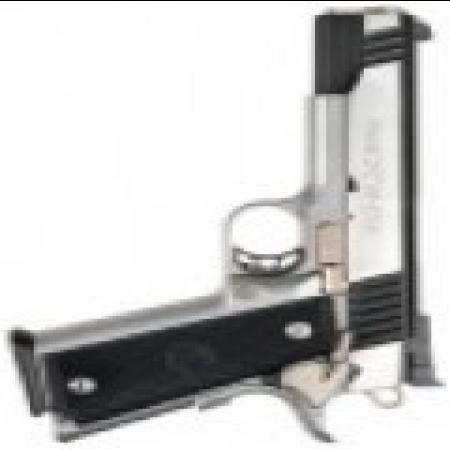Pistol: (19, 6, 442, 438)
